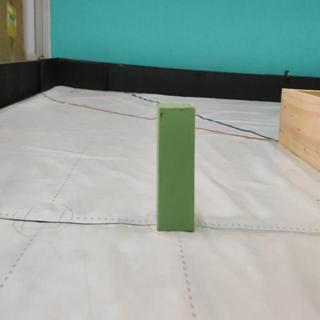greenbox: (157, 105, 197, 233)
